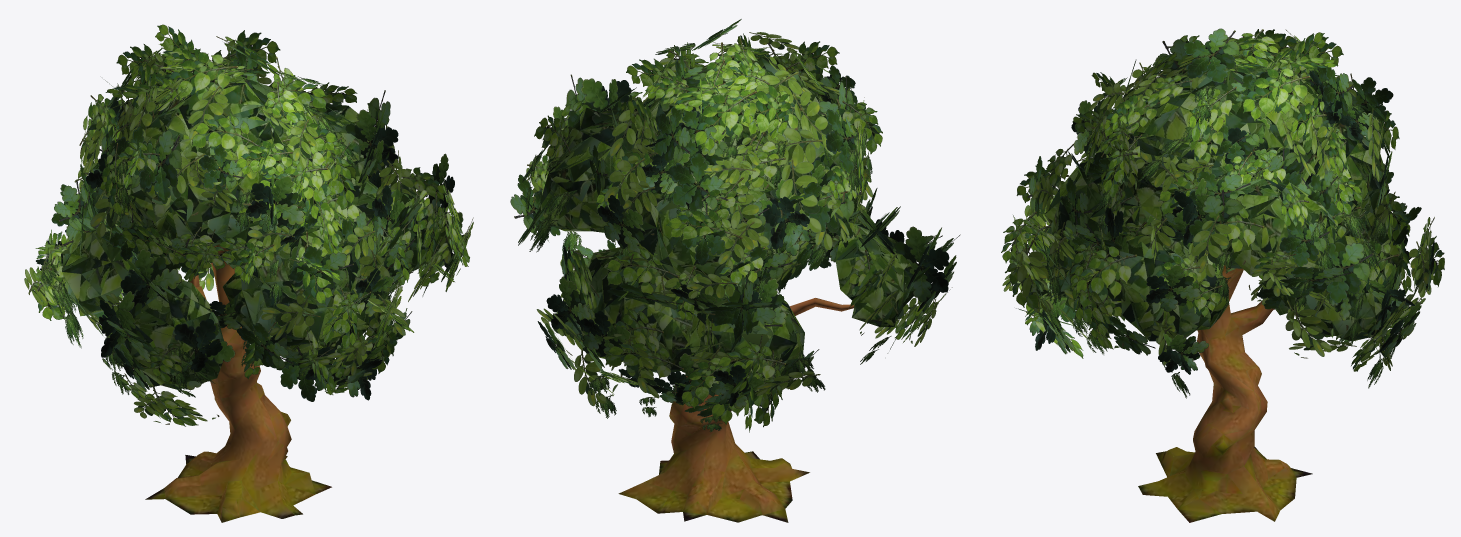
File: oak_1.glb
3 renders of one model, left to right at view 1: azimuth 30°, elevation 25°; view 2: azimuth 150°, elevation 25°; view 3: azimuth 270°, elevation 25°, orthographic. The views are drawn at different scales.
Visible parts, largest first — view 1: Fable_oak_1; view 2: Fable_oak_1; view 3: Fable_oak_1.
Boxes of the visible parts, <box> form: Fable_oak_1: <box>24,24,473,522</box>; Fable_oak_1: <box>510,19,960,522</box>; Fable_oak_1: <box>1001,28,1444,522</box>.
Size of the model in its own units: 6.73 by 7.26 by 6.6.
2 materials, 2 textured.
